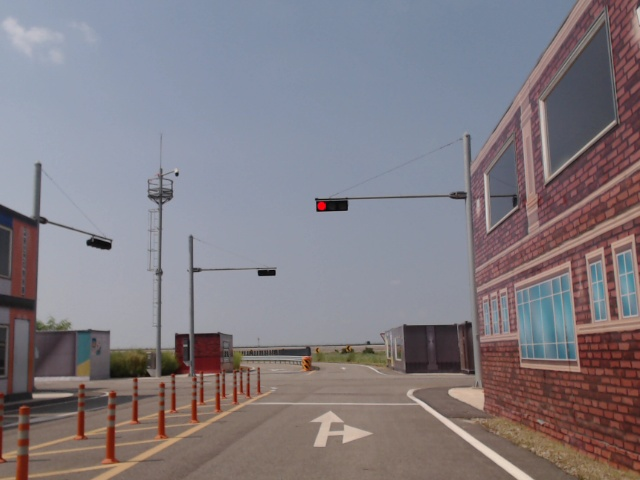red_3: (316, 201, 348, 211)
